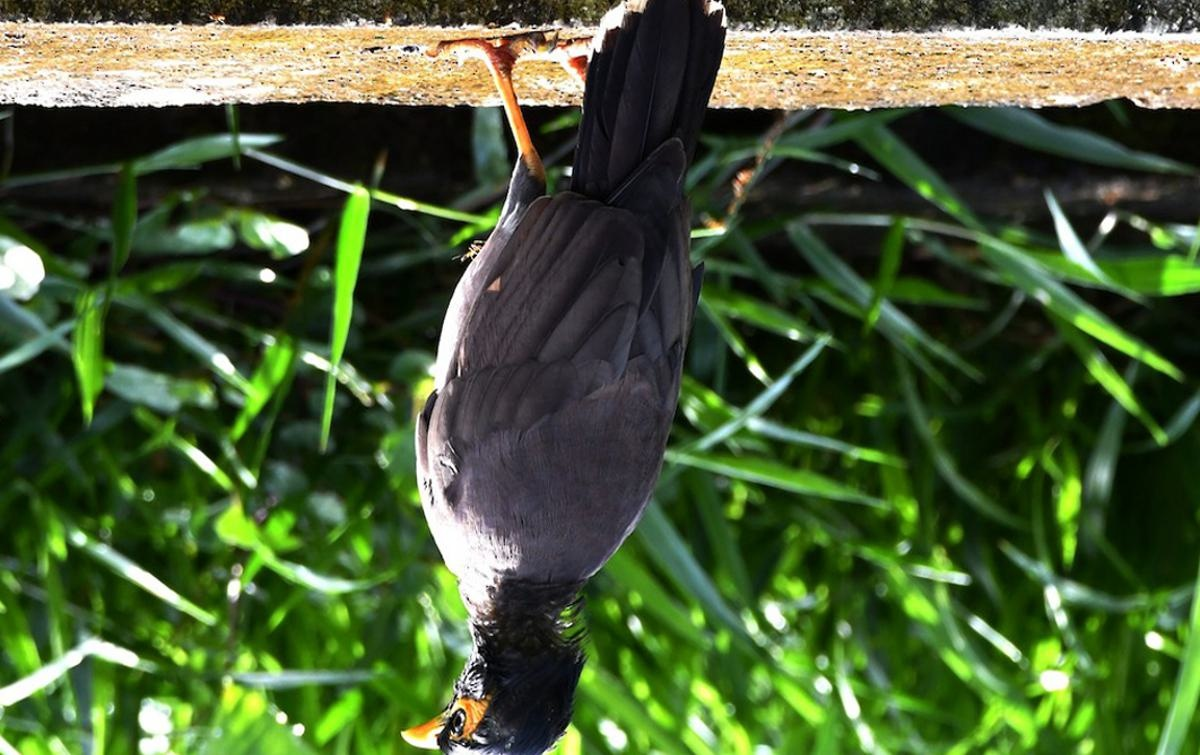myna: (389, 39, 763, 750)
